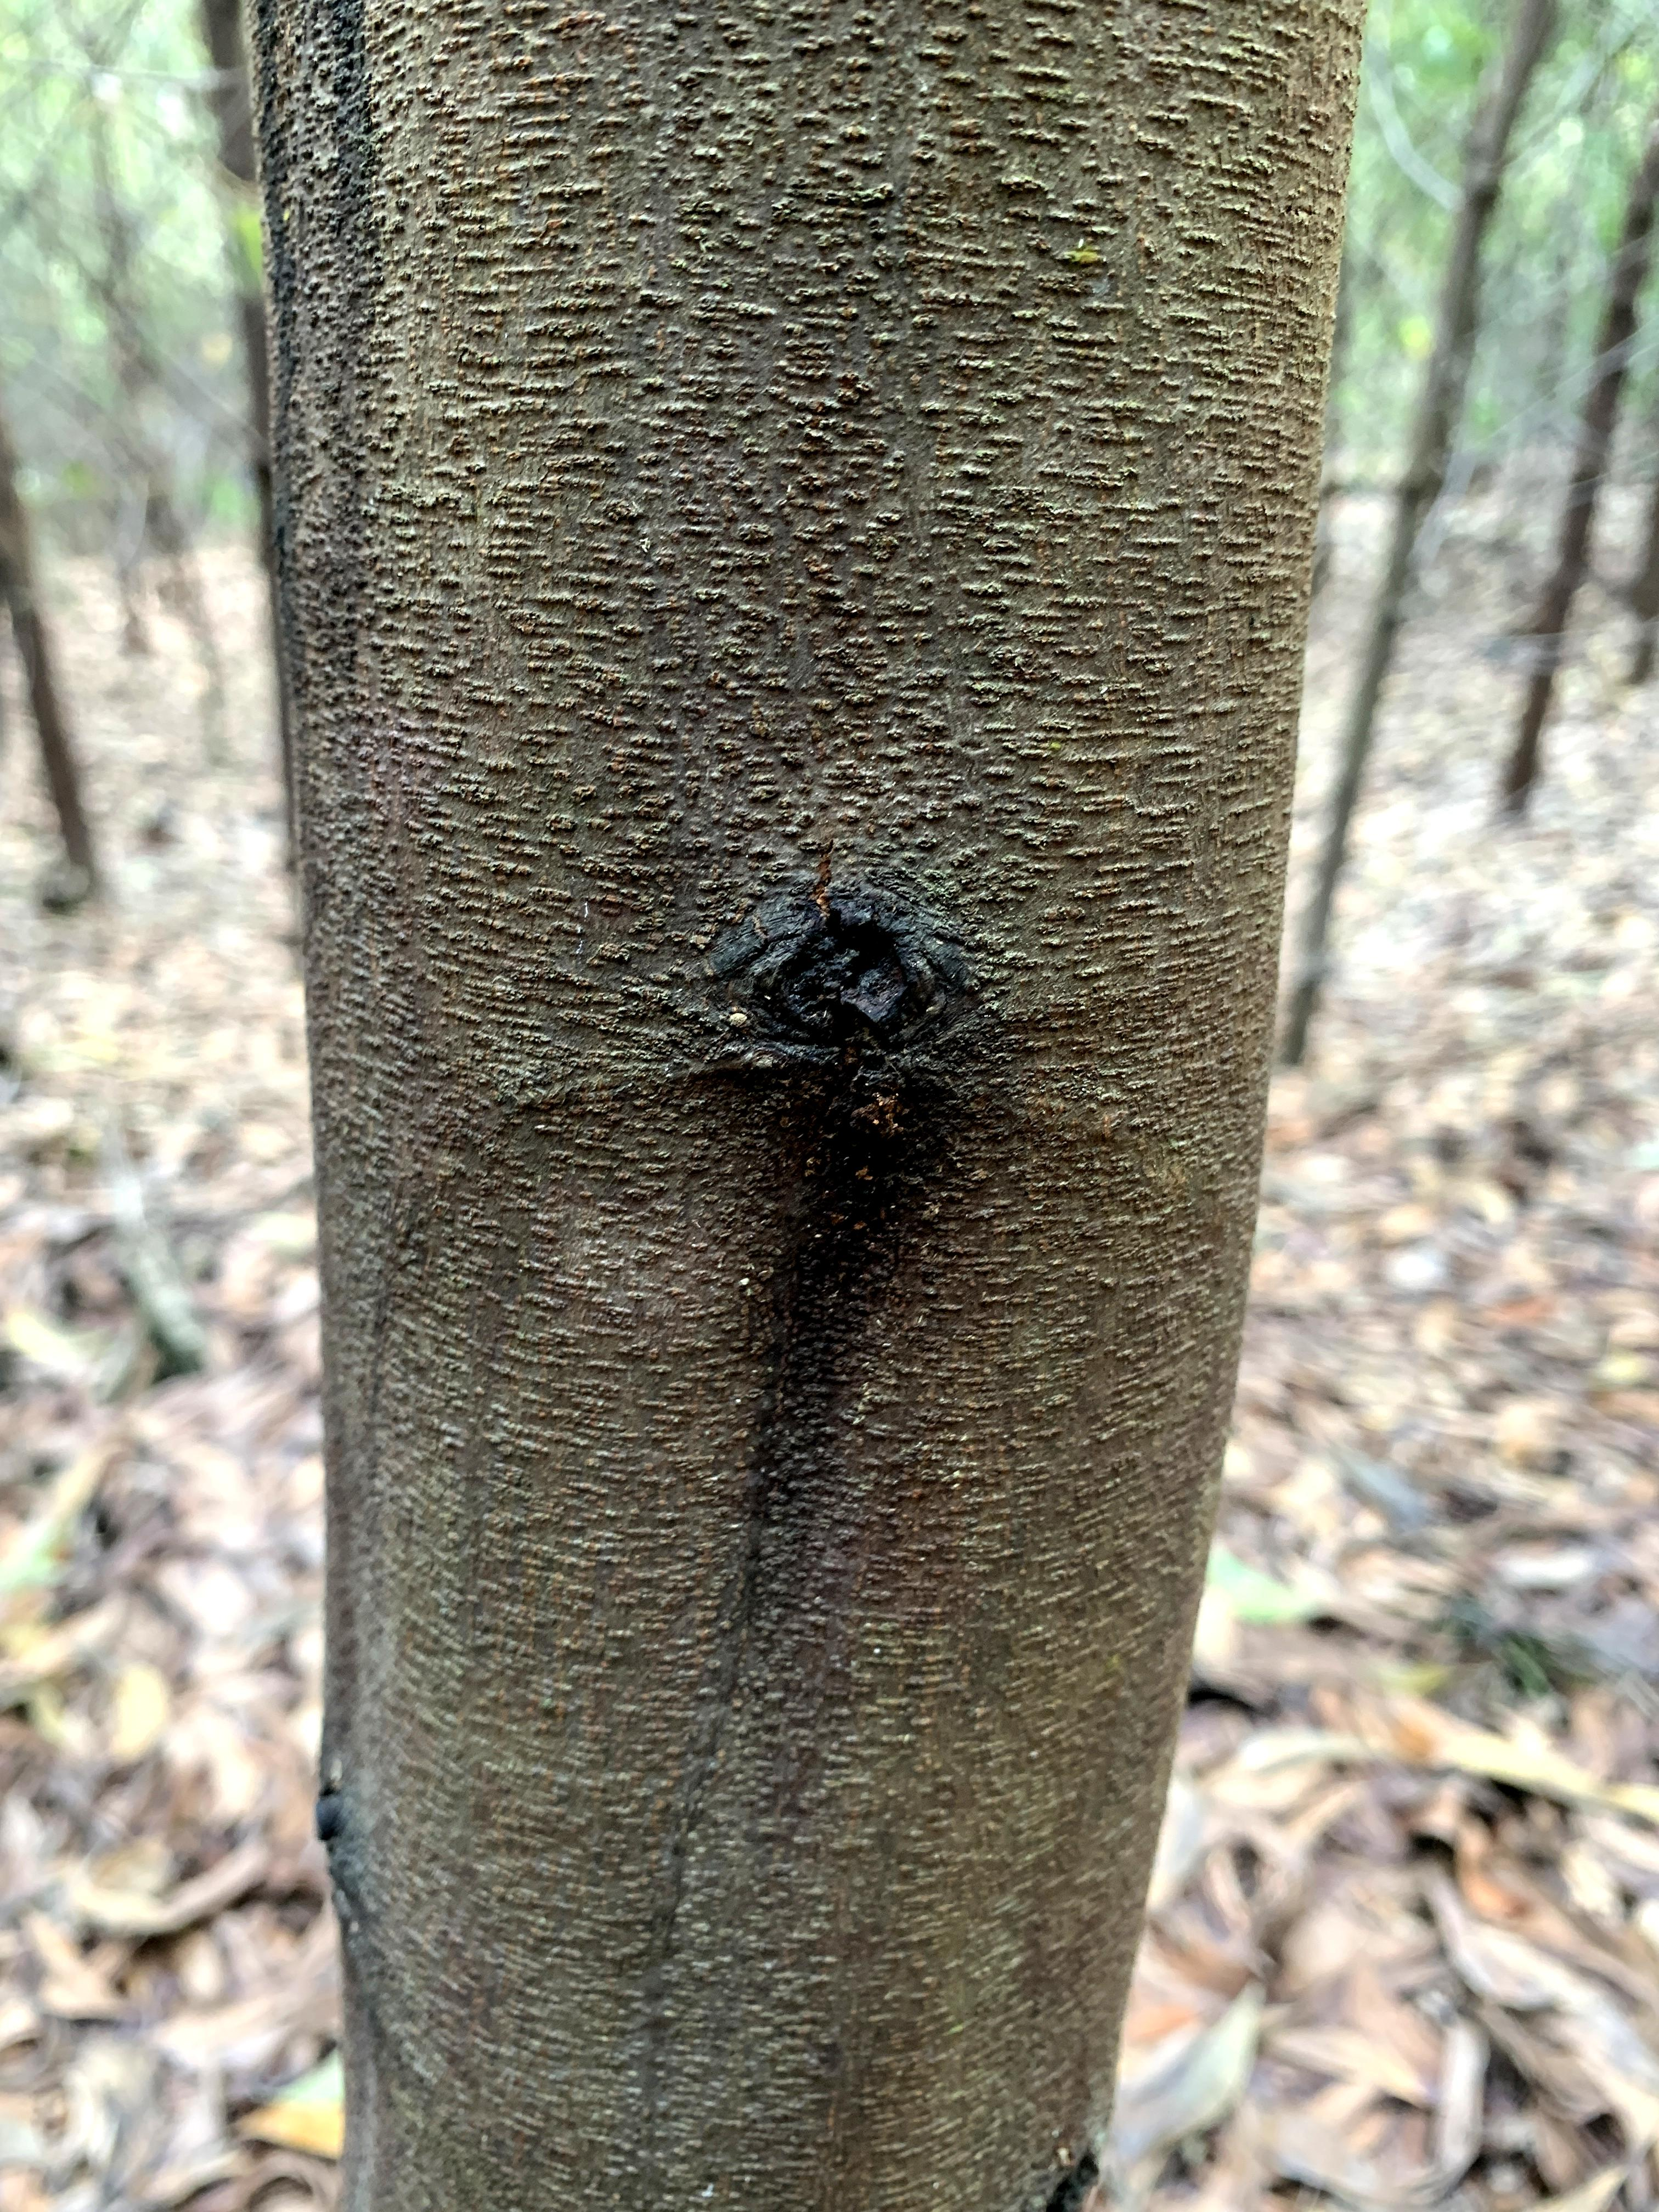Stem Borer: (669, 819, 1065, 1369)
